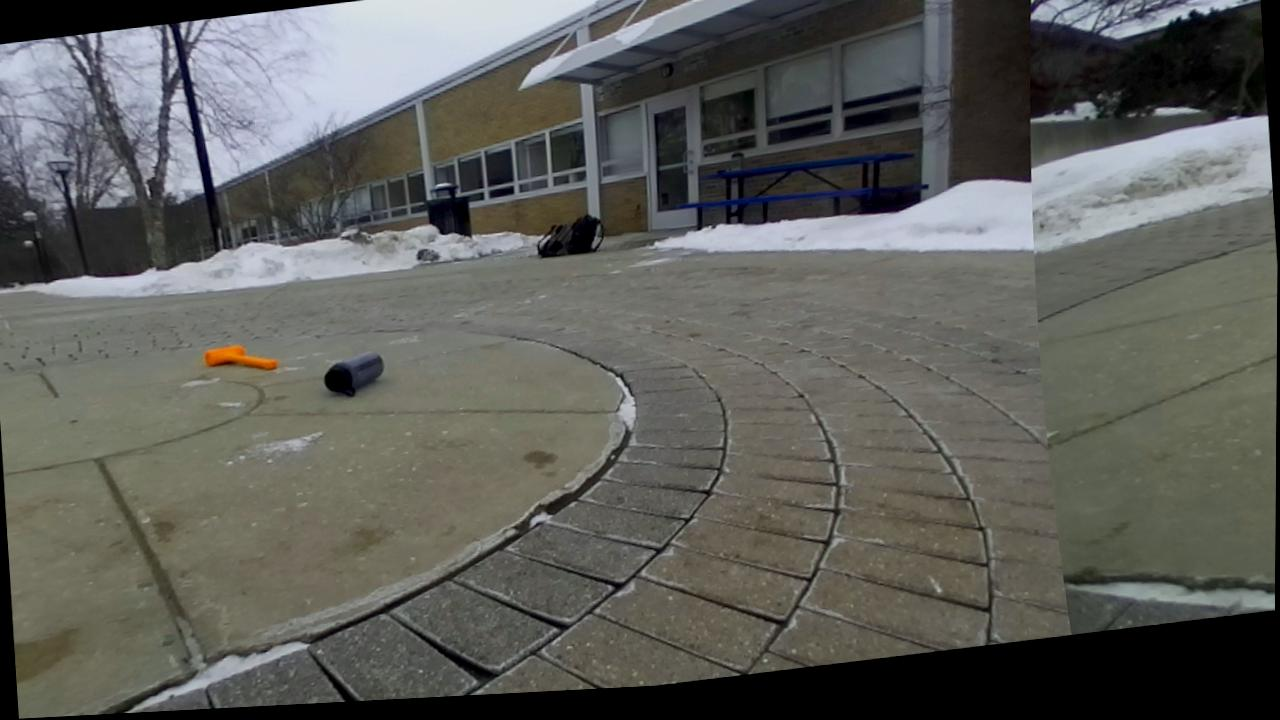bottle: (324, 352, 383, 395)
mallet: (204, 345, 276, 369)
